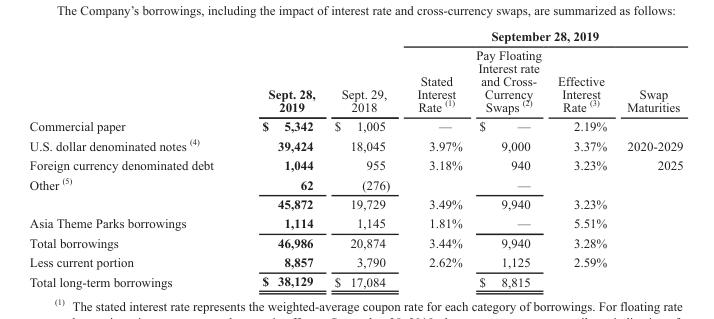table: (28, 28, 682, 288)
table column: (28, 28, 237, 288), (237, 28, 324, 288), (468, 28, 548, 288), (324, 28, 402, 288), (548, 28, 616, 288), (402, 28, 468, 288), (616, 28, 682, 288)
table column header: (28, 28, 682, 116)
table row: (28, 45, 682, 116), (28, 134, 682, 155), (28, 173, 682, 193), (28, 193, 682, 213), (28, 232, 682, 252), (28, 213, 682, 232), (28, 252, 682, 271), (28, 116, 682, 134), (28, 155, 682, 173), (28, 28, 682, 45), (28, 271, 682, 288)
table spanning cell: (237, 28, 324, 116), (324, 28, 402, 116), (402, 28, 682, 45)
